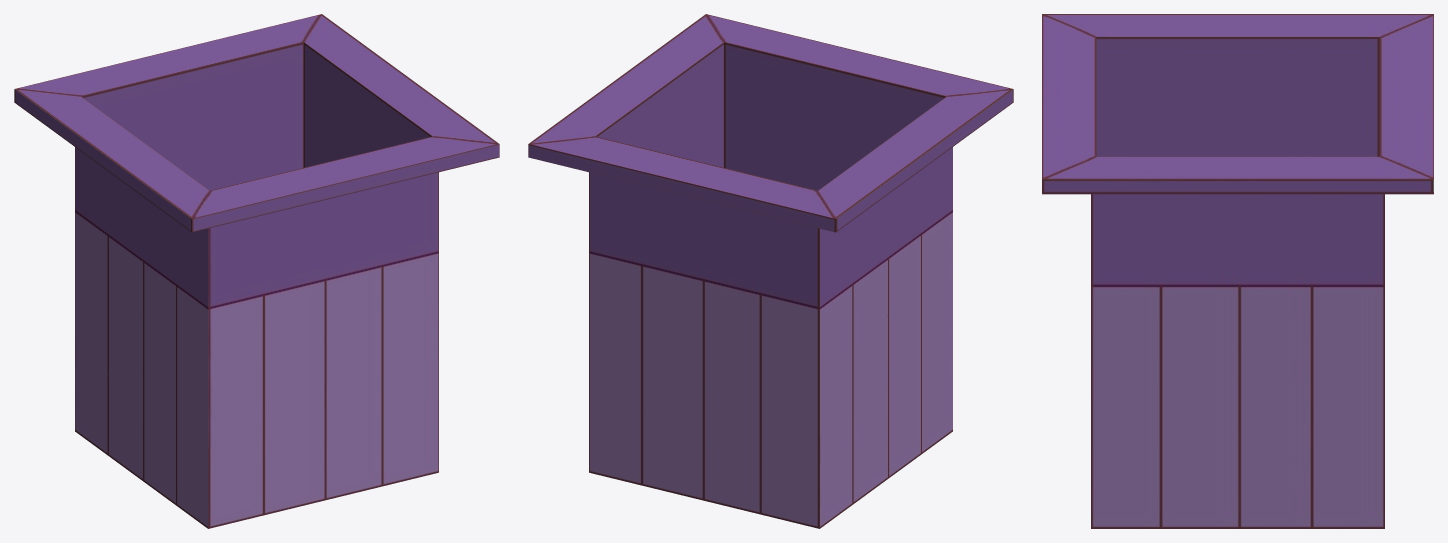
File: Dr_외부_쓰레기통.fbx
3 renders of one model, left to right at view 1: azimuth 30°, elevation 25°; view 2: azimuth 150°, elevation 25°; view 3: azimuth 270°, elevation 25°, orthographic. The views are drawn at different scales.
Visible parts, largest first — view 1: Box001; view 2: Box001; view 3: Box001.
Part boxes in pixels (box(x1,y1,x2,y2)): Box001: box(14, 14, 499, 528); Box001: box(528, 14, 1013, 528); Box001: box(1042, 14, 1433, 528).
Size of the model in its own units: 160 by 167 by 160.
1 material, 1 textured.
